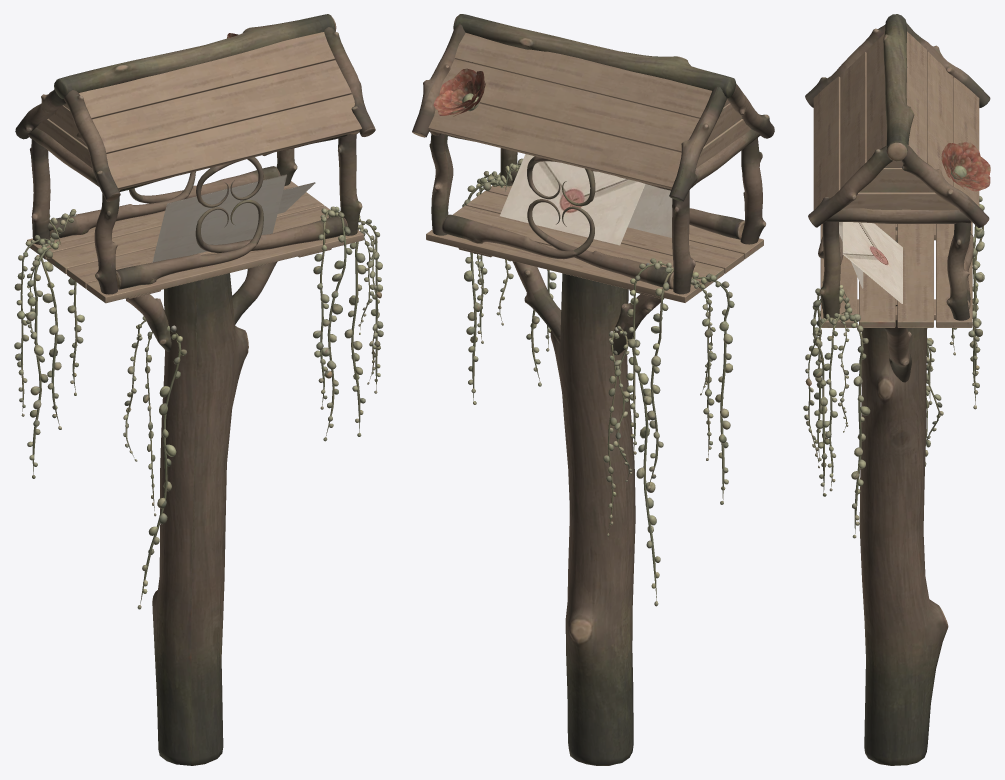
File: mailbox.glb
3 views of the same model, side by side, from view 1: azimuth 30°, elevation 25°; view 2: azimuth 150°, elevation 25°; view 3: azimuth 270°, elevation 25° (orthographic). The views are drawn at different scales.
Visible parts, largest first — view 1: Mailbox_Static; view 2: Mailbox_Static, Submission_Envelope; view 3: Mailbox_Static, Submission_Envelope.
Boxes of the visible parts, x1,y1,x2,y2 form: Mailbox_Static: (14,14,383,765); Mailbox_Static: (412,14,774,765); Submission_Envelope: (500,154,645,245); Mailbox_Static: (803,14,990,765); Submission_Envelope: (842,222,902,303).
Size of the model in its own units: 1.89 by 4.17 by 1.03.
Materials: 1 (1 with a texture image).
